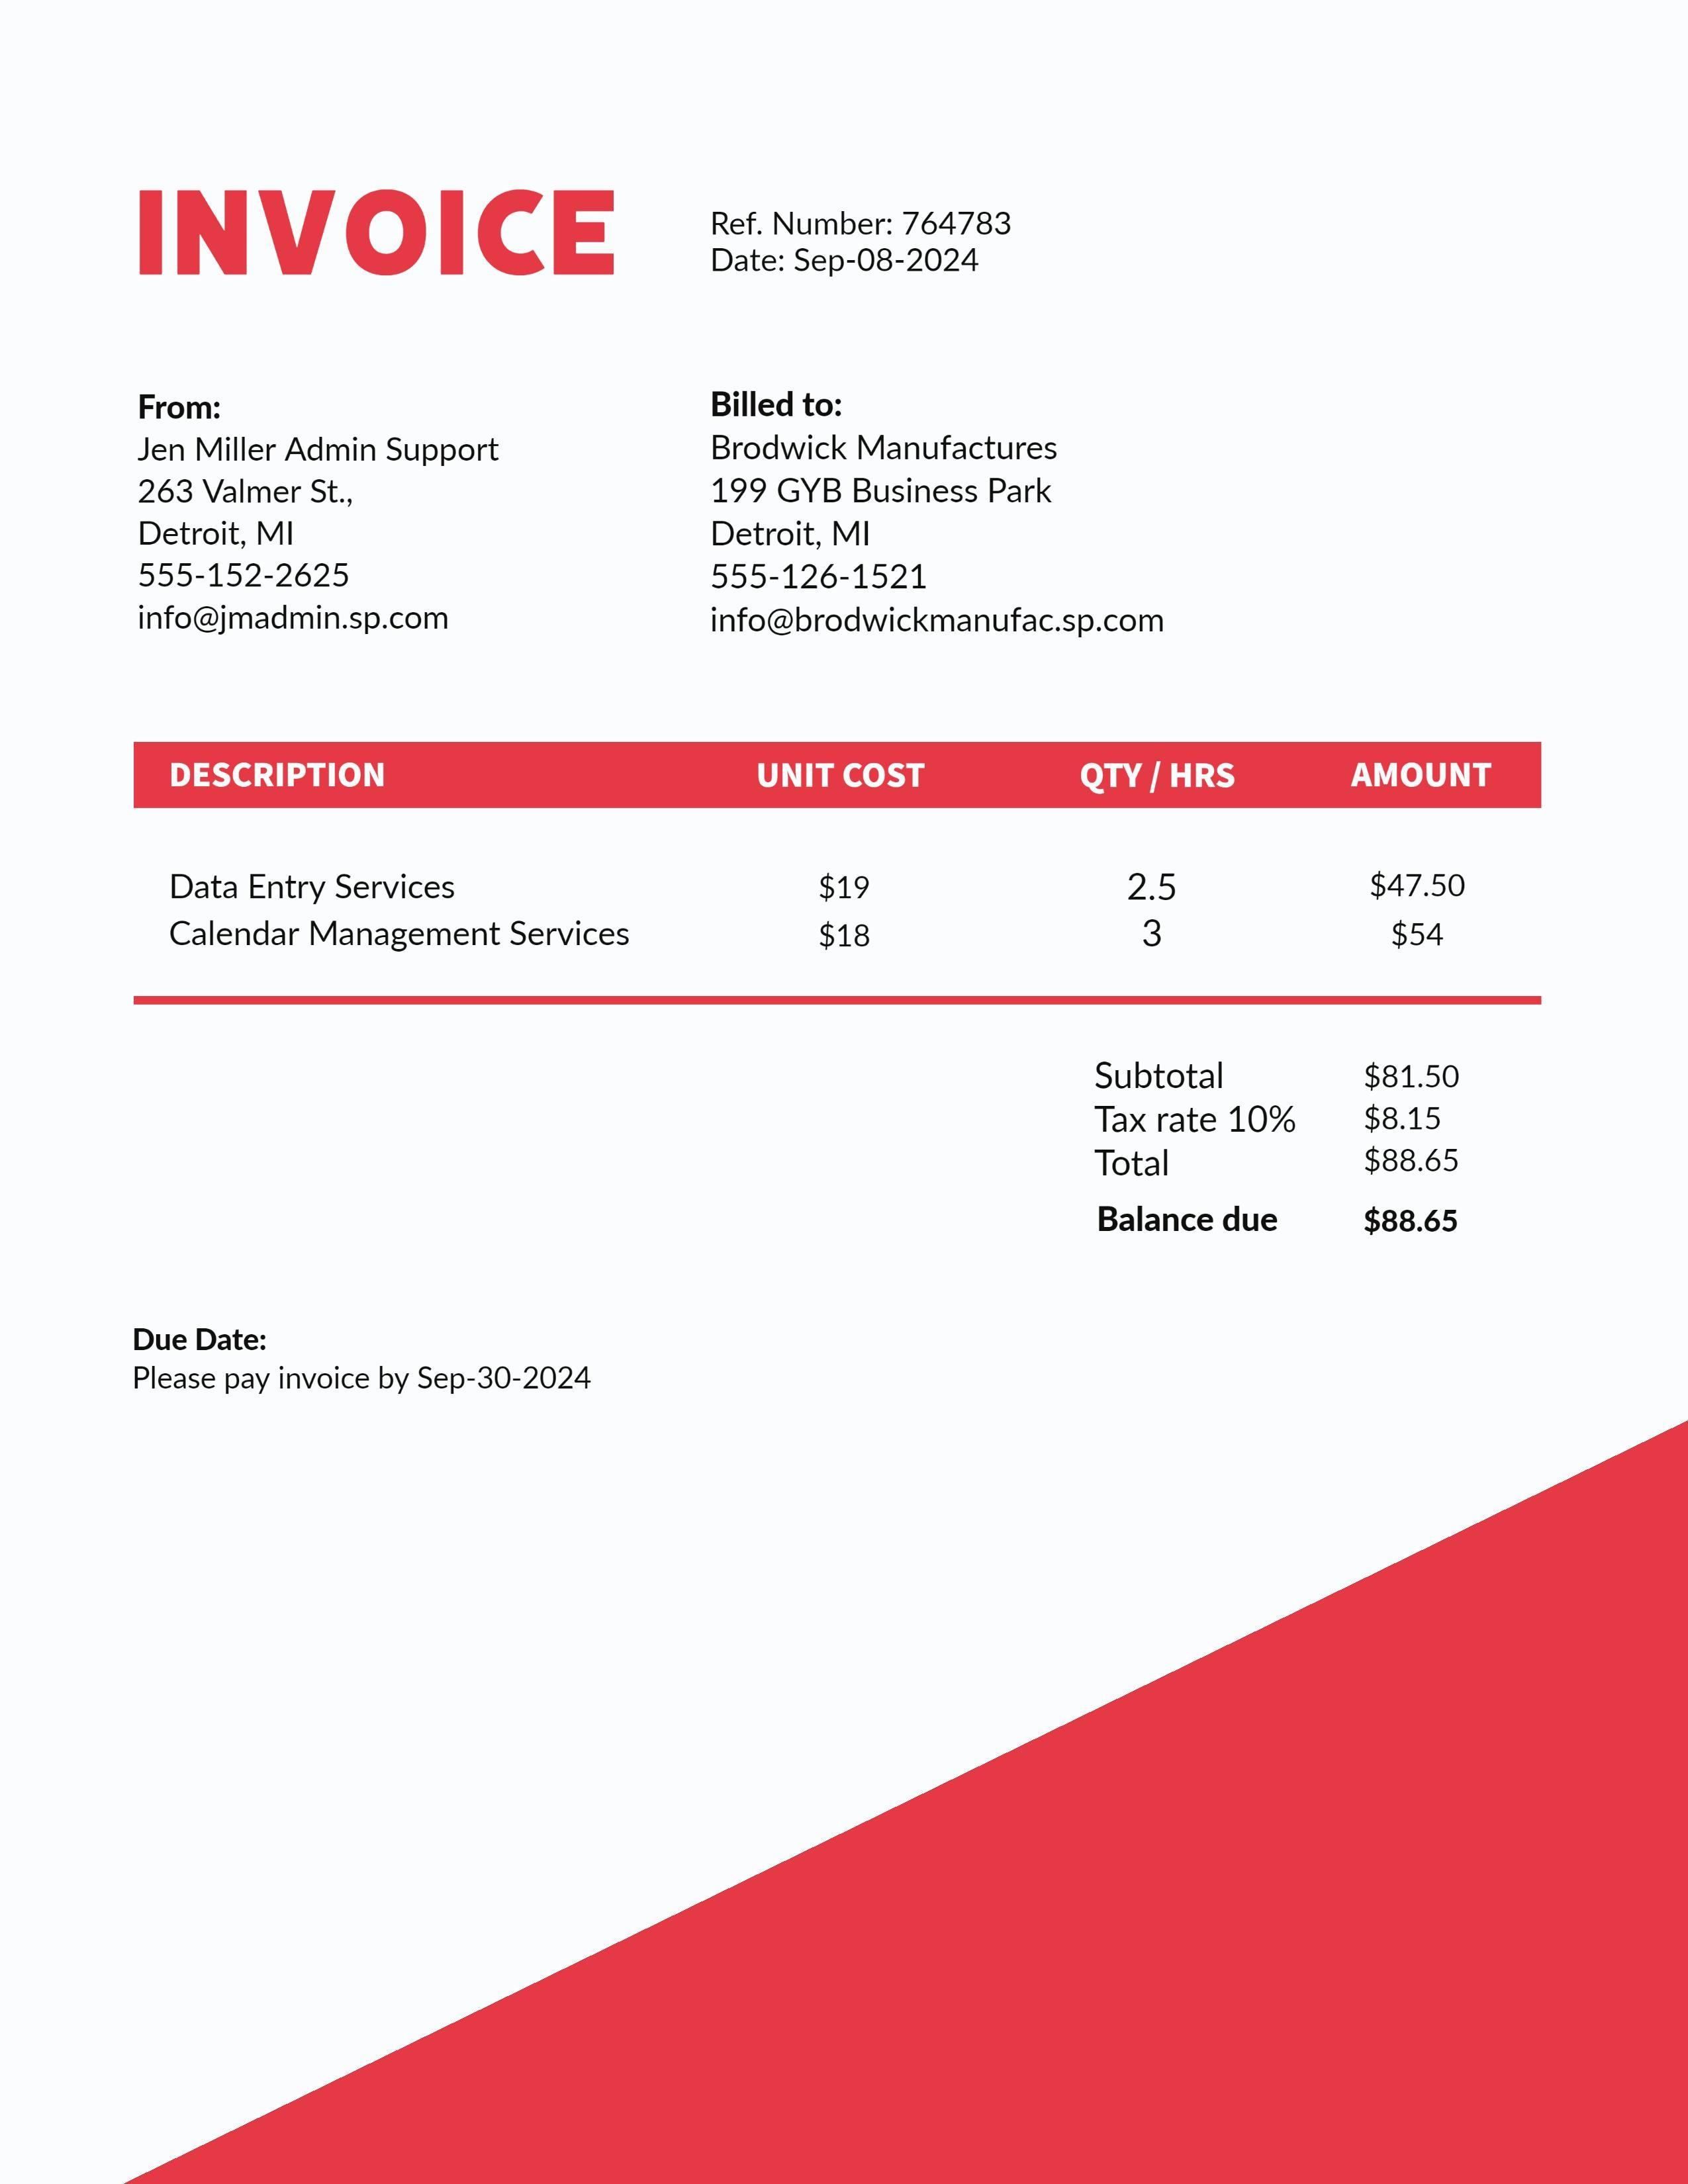ROI: (131, 745, 1543, 980), (707, 381, 1168, 647), (131, 390, 551, 643), (1092, 1058, 1486, 1252), (124, 1303, 621, 1400), (715, 202, 1035, 287)
